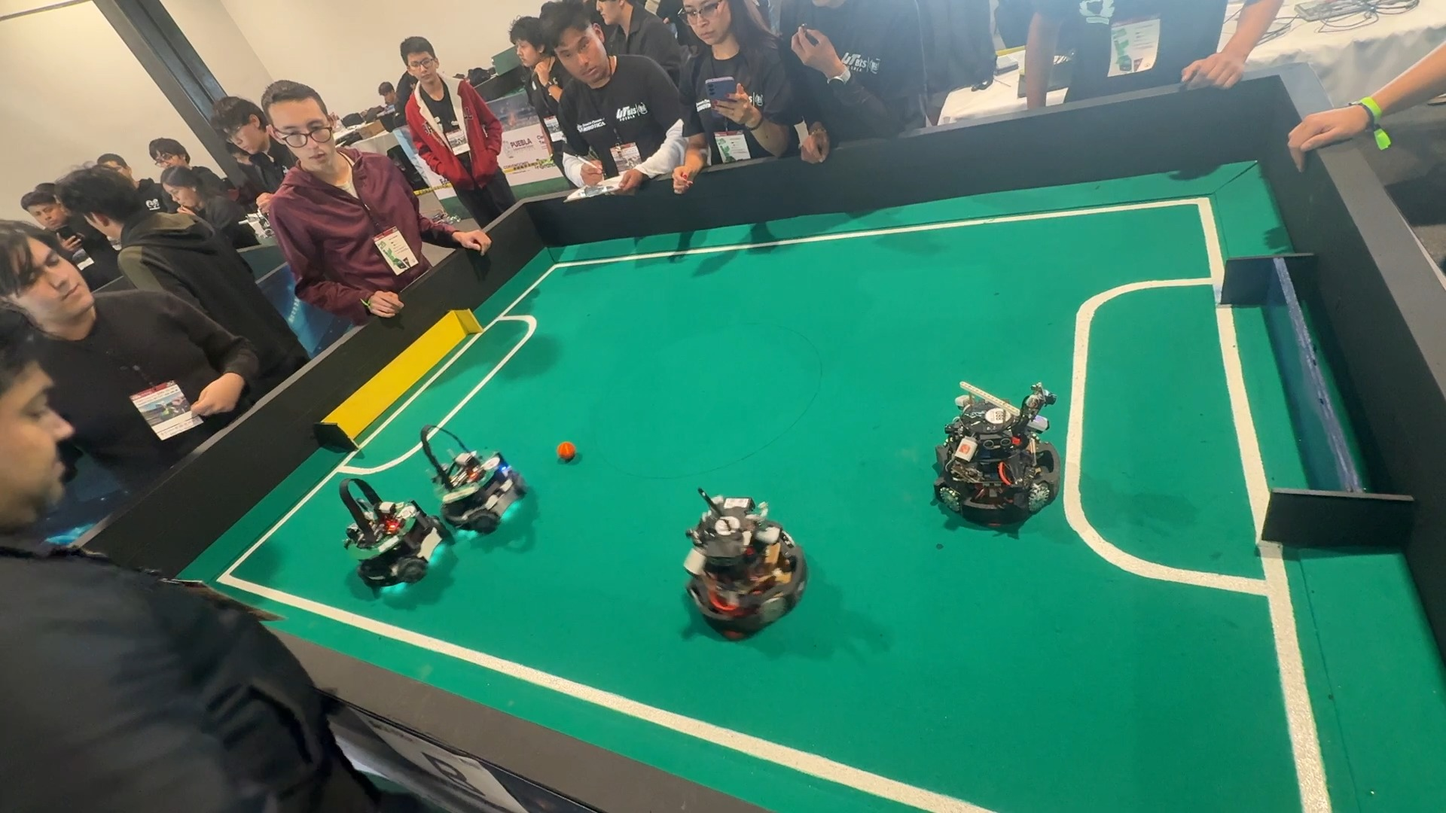Robot: (676, 479, 823, 658), (926, 368, 1068, 546), (326, 474, 441, 596), (430, 424, 525, 533)
pelota: (552, 438, 584, 467)
